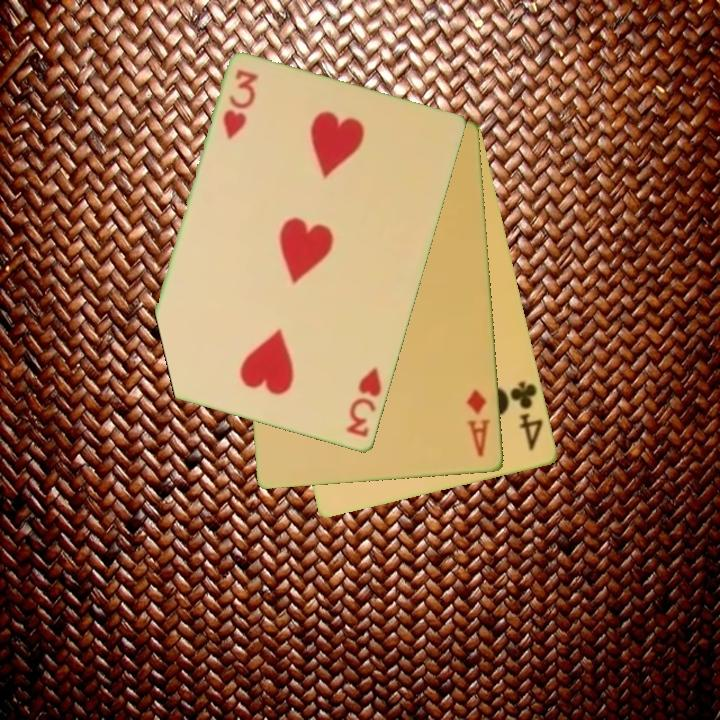3h: (343, 363, 385, 441), (219, 66, 261, 143)
4c: (507, 378, 547, 454)
Ad: (463, 387, 494, 461)
